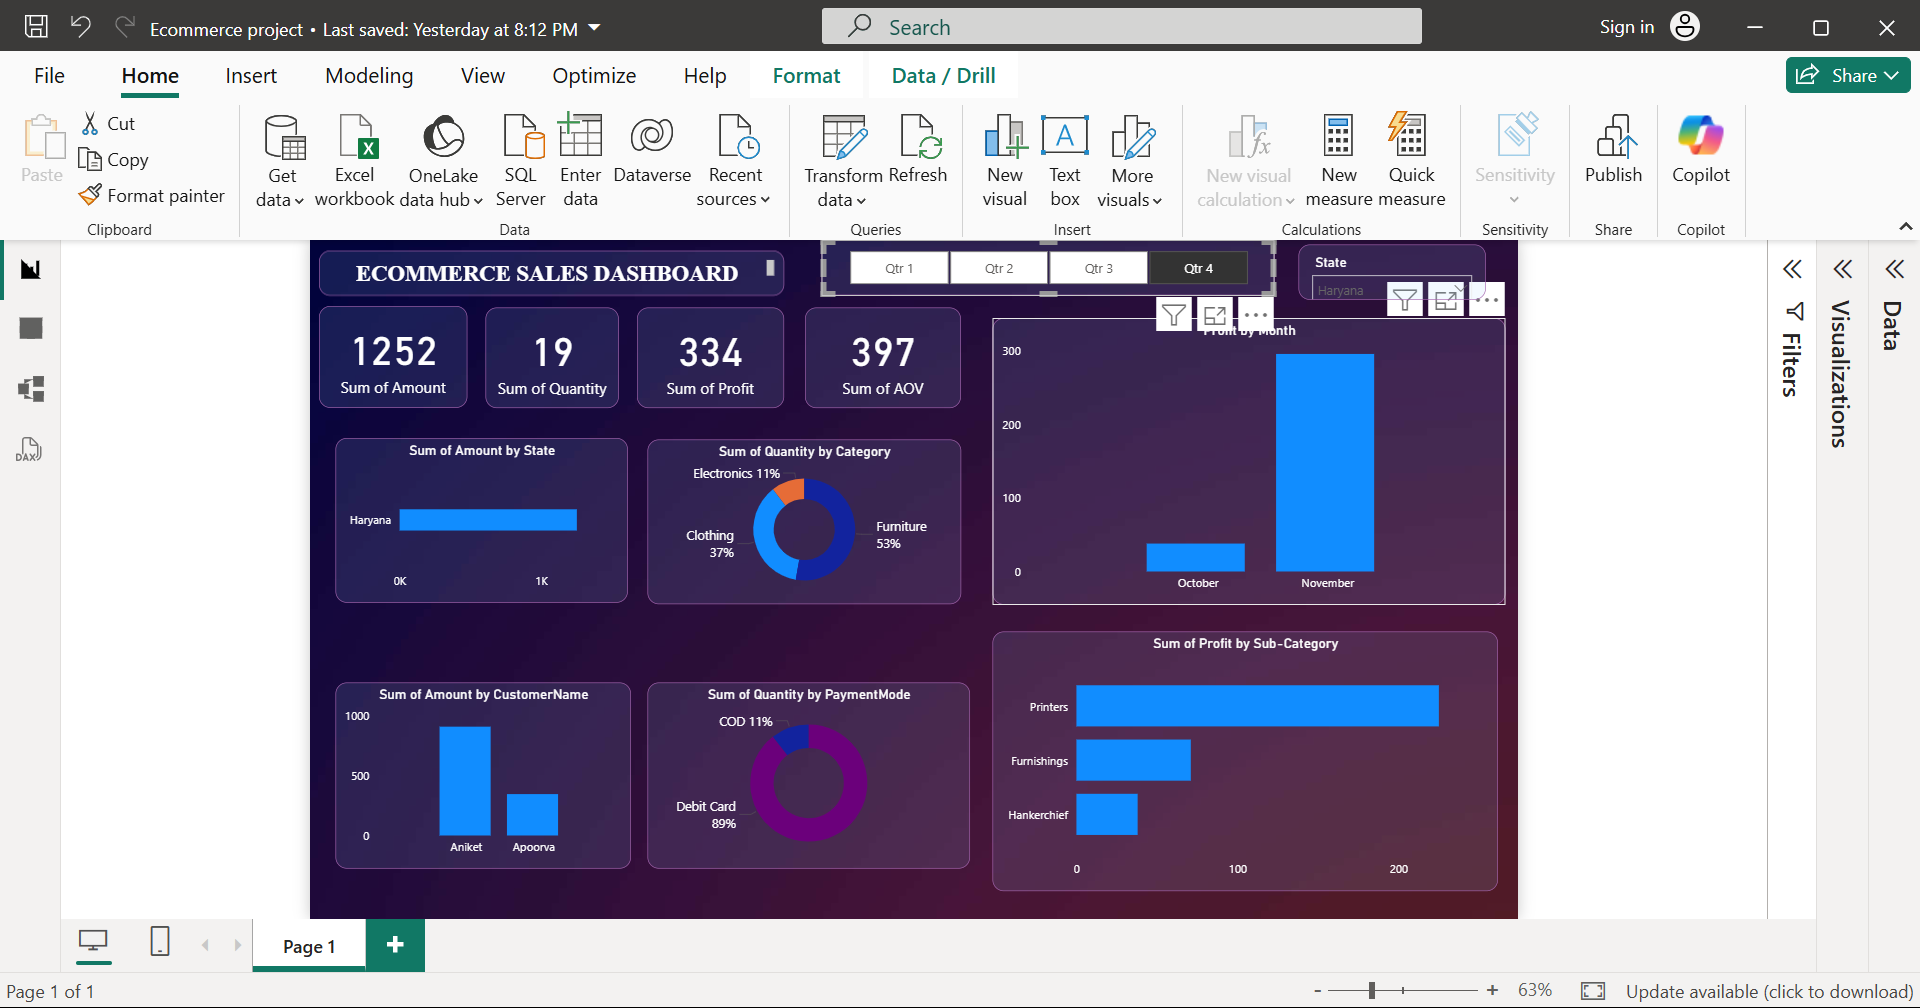

What the dashboard file says about the page in this screenshot:
{"tool":"powerbi","page":{"name":"Page 1","canvas":[1280,720],"ordinal":0},"visuals":[{"type":"textbox","box":[9.5,11.1,493.1,47.7],"z":0},{"type":"columnChart","title":"Profit by Month","fields":{"Y":["Sum(Details.Profit)"],"Category":["Orders.Order Date.Variation.Date Hierarchy.Month"]},"box":[723.7,82.7,544,303.8],"z":1000},{"type":"barChart","fields":{"Category":["Details.Sub-Category"],"Y":["Sum(Details.Profit)"]},"box":[723.7,415.1,536,275.2],"z":2000},{"type":"donutChart","fields":{"Category":["Details.Category"],"Y":["Sum(Details.Quantity)"]},"box":[357.9,211.6,332.4,175],"z":3000},{"type":"donutChart","fields":{"Category":["Details.PaymentMode"],"Y":["Sum(Details.Quantity)"]},"box":[357.9,469.2,342,197.2],"z":4000},{"type":"card","fields":{"Values":["Sum(Details.Amount)"]},"box":[9.5,70,157.5,108.2],"z":5000},{"type":"card","fields":{"Values":["Sum(Details.Quantity)"]},"box":[186.1,71.6,141.6,106.6],"z":6000},{"type":"card","fields":{"Values":["Sum(Details.Profit)"]},"box":[346.8,71.6,155.9,106.6],"z":7000},{"type":"card","fields":{"Values":["Sum(Details.AOV)"]},"box":[524.9,71.6,165.4,106.6],"z":8000},{"type":"barChart","fields":{"Y":["Sum(Details.Amount)"],"Category":["Orders.State"]},"box":[27,210,310.2,175],"z":9000},{"type":"columnChart","fields":{"Category":["Orders.CustomerName"],"Y":["Sum(Details.Amount)"]},"box":[27,469.2,313.4,197.2],"z":10000},{"type":"slicer","fields":{"Values":["Orders.Order Date.Variation.Date Hierarchy.Quarter"]},"box":[542.4,0,480.4,58.9],"z":11000},{"type":"slicer","fields":{"Values":["Orders.State"]},"box":[1048.2,4.8,198.8,58.9],"z":12000}]}

Visuals, with their boxes on the page's 1280x720 design canvas (x1, y1, x2, y2). These are canvas units, not pixel positions in the 1920x1008 screenshot, which may show the page scaled, cropped or inside an application window:
textbox: l=10, t=11, r=503, b=59
"Profit by Month" columnChart: l=724, t=83, r=1268, b=386
barChart - Details.Sub-Category x Sum(Details.Profit): l=724, t=415, r=1260, b=690
donutChart - Details.Category x Sum(Details.Quantity): l=358, t=212, r=690, b=387
donutChart - Details.PaymentMode x Sum(Details.Quantity): l=358, t=469, r=700, b=666
card - Sum(Details.Amount): l=10, t=70, r=167, b=178
card - Sum(Details.Quantity): l=186, t=72, r=328, b=178
card - Sum(Details.Profit): l=347, t=72, r=503, b=178
card - Sum(Details.AOV): l=525, t=72, r=690, b=178
barChart - Sum(Details.Amount) x Orders.State: l=27, t=210, r=337, b=385
columnChart - Orders.CustomerName x Sum(Details.Amount): l=27, t=469, r=340, b=666
slicer - Orders.Order Date.Variation.Date Hierarchy.Quarter: l=542, t=0, r=1023, b=59
slicer - Orders.State: l=1048, t=5, r=1247, b=64
